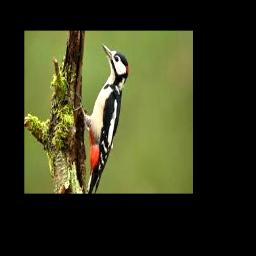Woodpecker: (73, 43, 128, 194)
